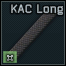KAC URX 3%53.1 long panel Flat Dark Earth: (0, 0, 66, 66)
